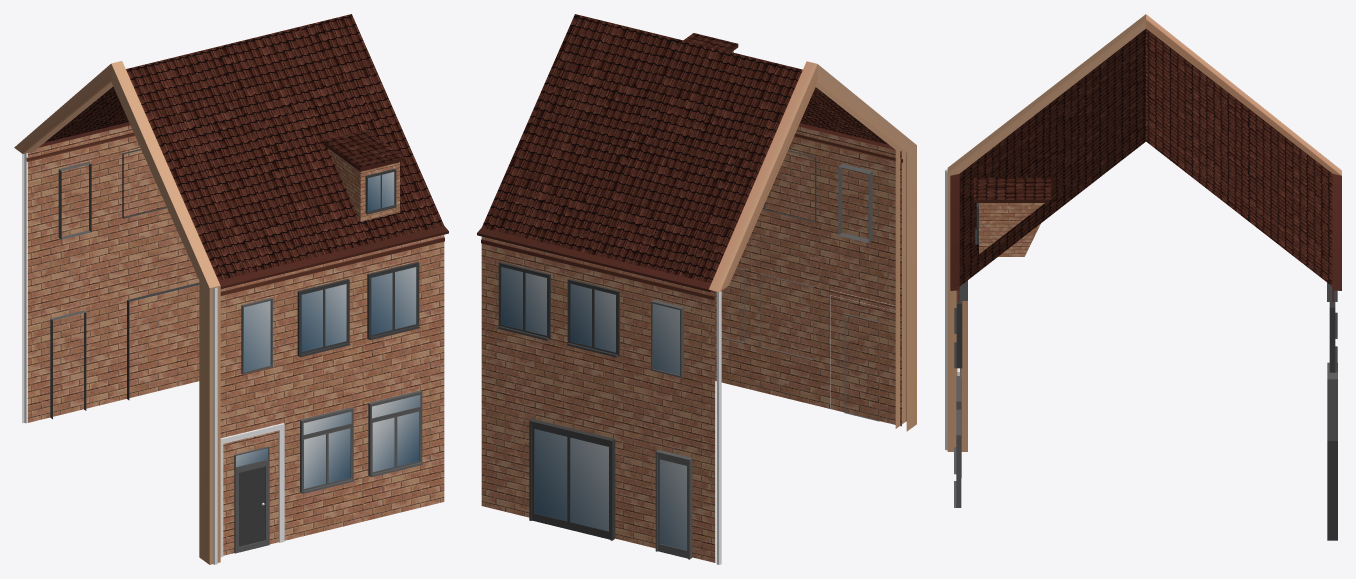
The model's file is It_Tek_6.fbx.
The picture shows the model from 3 angles, left to right: view 1: azimuth 30°, elevation 25°; view 2: azimuth 150°, elevation 25°; view 3: azimuth 270°, elevation 25°; orthographic projection.
Visible parts, largest first — view 1: It_Tek_6; view 2: It_Tek_6; view 3: It_Tek_6.
Part boxes in pixels (x1,y1,x2,y2): It_Tek_6: (14, 14, 448, 564); It_Tek_6: (477, 14, 916, 564); It_Tek_6: (945, 14, 1341, 540).
Size of the model in its own units: 6.11 by 10.42 by 8.66.
